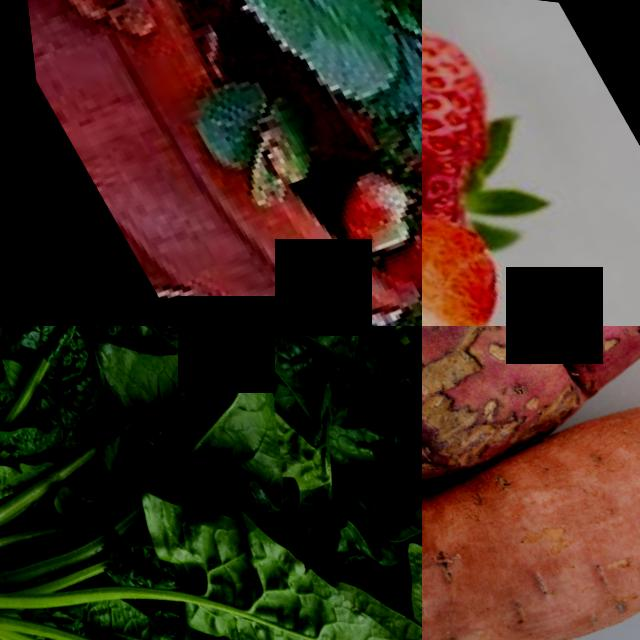spinach: (126, 326, 322, 501), (128, 475, 324, 640), (197, 614, 391, 640)
strawberry: (422, 0, 525, 295), (422, 149, 580, 326), (307, 145, 416, 243), (358, 211, 422, 309), (235, 287, 351, 326), (336, 313, 411, 326)
sweet potato: (422, 326, 640, 640), (422, 326, 640, 612)
